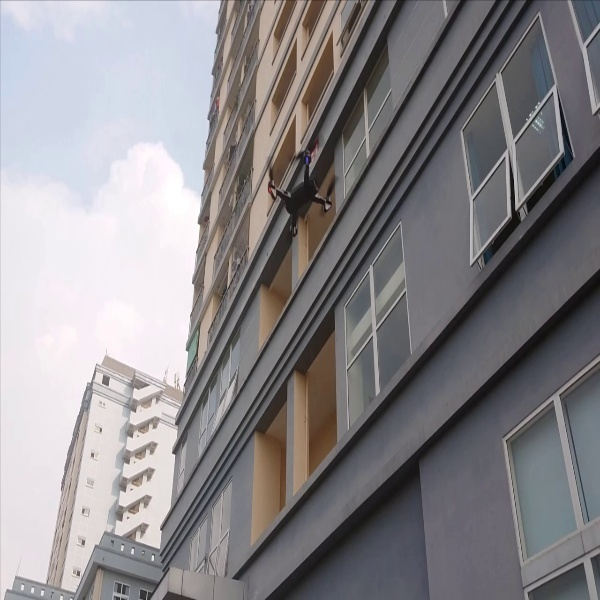drone: (258, 142, 341, 246)
